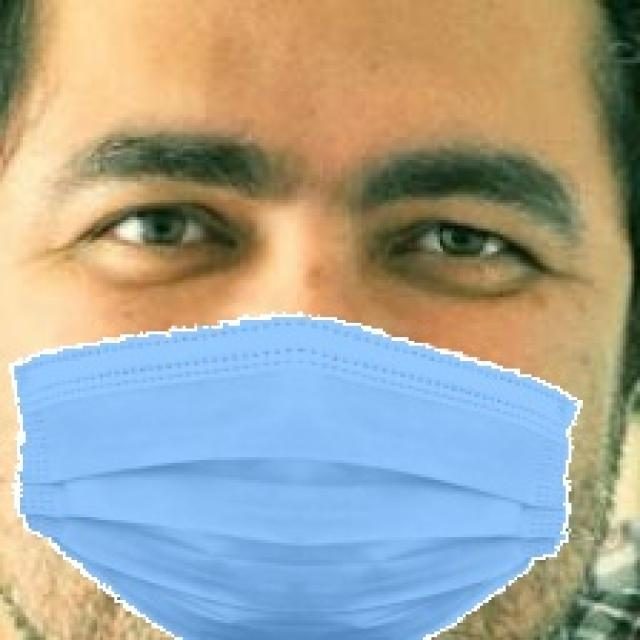mask: (1, 325, 583, 640)
